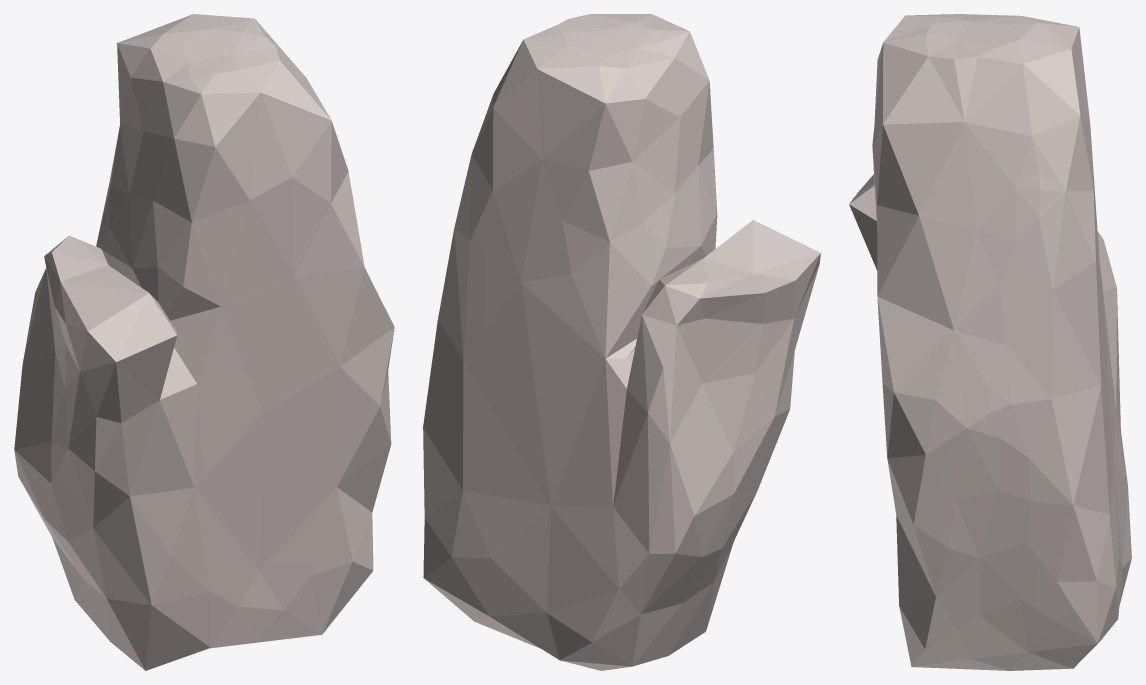
The model's file is rock_009.fbx.
The picture shows the model from 3 angles, left to right: view 1: azimuth 30°, elevation 25°; view 2: azimuth 150°, elevation 25°; view 3: azimuth 270°, elevation 25°; orthographic projection. The views are drawn at different scales.
Parts seen in each view (by area): view 1: rock.009; view 2: rock.009; view 3: rock.009.
Part boxes in pixels (x1,y1,x2,y2): rock.009: (14, 14, 394, 670); rock.009: (423, 14, 820, 670); rock.009: (849, 14, 1131, 670).
Size of the model in its own units: 951 by 1713 by 708.
Materials: 1 (1 with a texture image).
